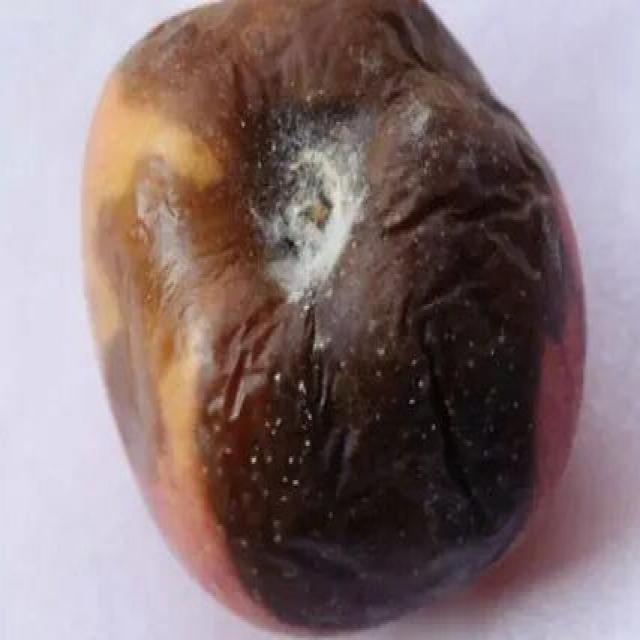Apple: (72, 0, 592, 637)
